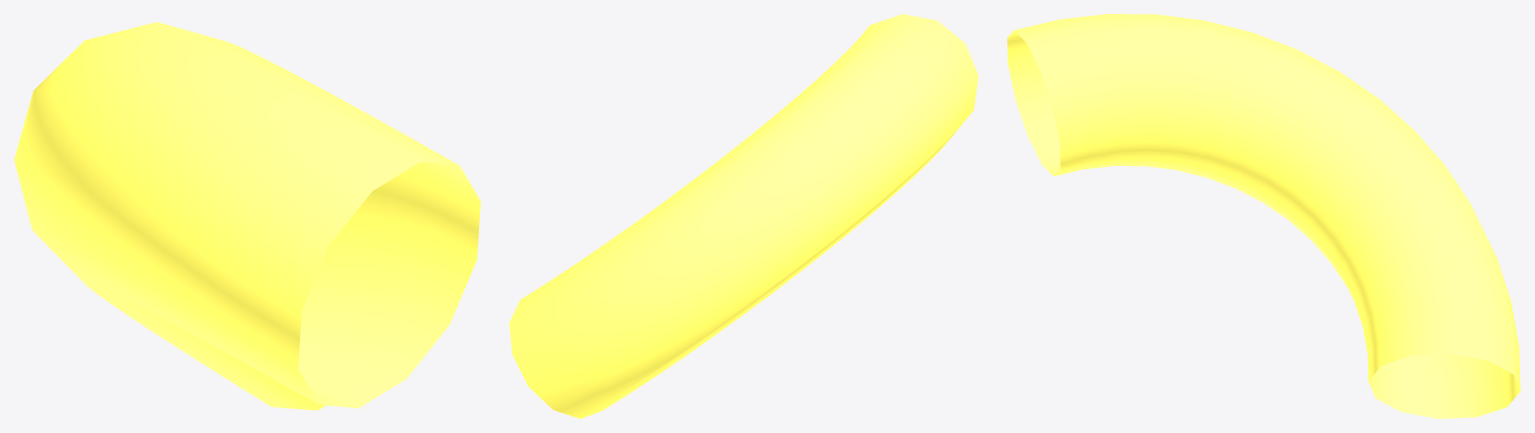
3 views of the same model, side by side, from view 1: azimuth 30°, elevation 25°; view 2: azimuth 150°, elevation 25°; view 3: azimuth 270°, elevation 25° (orthographic). The views are drawn at different scales.
Parts seen in each view (by area): view 1: Torus; view 2: Torus; view 3: Torus.
Boxes of the visible parts, x1=… form: Torus: x1=14, y1=22, x2=480, y2=410; Torus: x1=509, y1=14, x2=978, y2=418; Torus: x1=1007, y1=14, x2=1520, y2=418.
Size of the model in its own units: 1.01 by 1.02 by 1.48.
